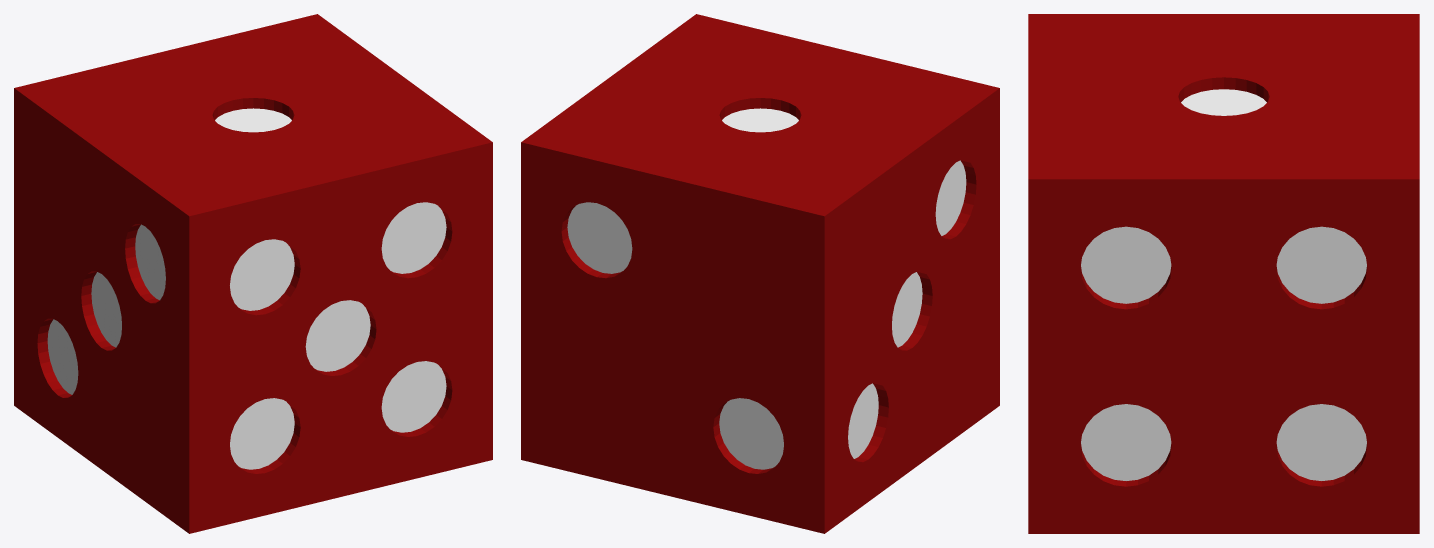
File: Boardgame_Dice_D6_Red_01.fbx
3 views of the same model, side by side, from view 1: azimuth 30°, elevation 25°; view 2: azimuth 150°, elevation 25°; view 3: azimuth 270°, elevation 25° (orthographic). The views are drawn at different scales.
Visible parts, largest first — view 1: Boardgame_Dice_D6_Red_01; view 2: Boardgame_Dice_D6_Red_01; view 3: Boardgame_Dice_D6_Red_01.
Part boxes in pixels (left/top/right/bottom): Boardgame_Dice_D6_Red_01: left=14, top=14, right=492, bottom=533; Boardgame_Dice_D6_Red_01: left=521, top=14, right=999, bottom=533; Boardgame_Dice_D6_Red_01: left=1028, top=14, right=1419, bottom=533.
Size of the model in its own units: 833 by 833 by 833.
